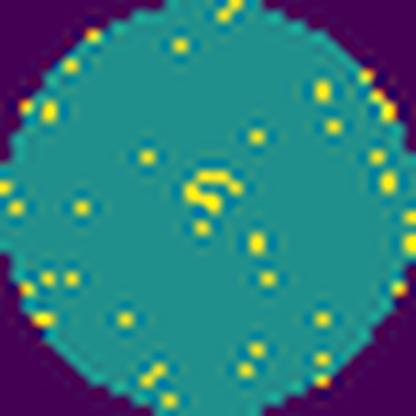Center: (182, 164, 246, 221)
